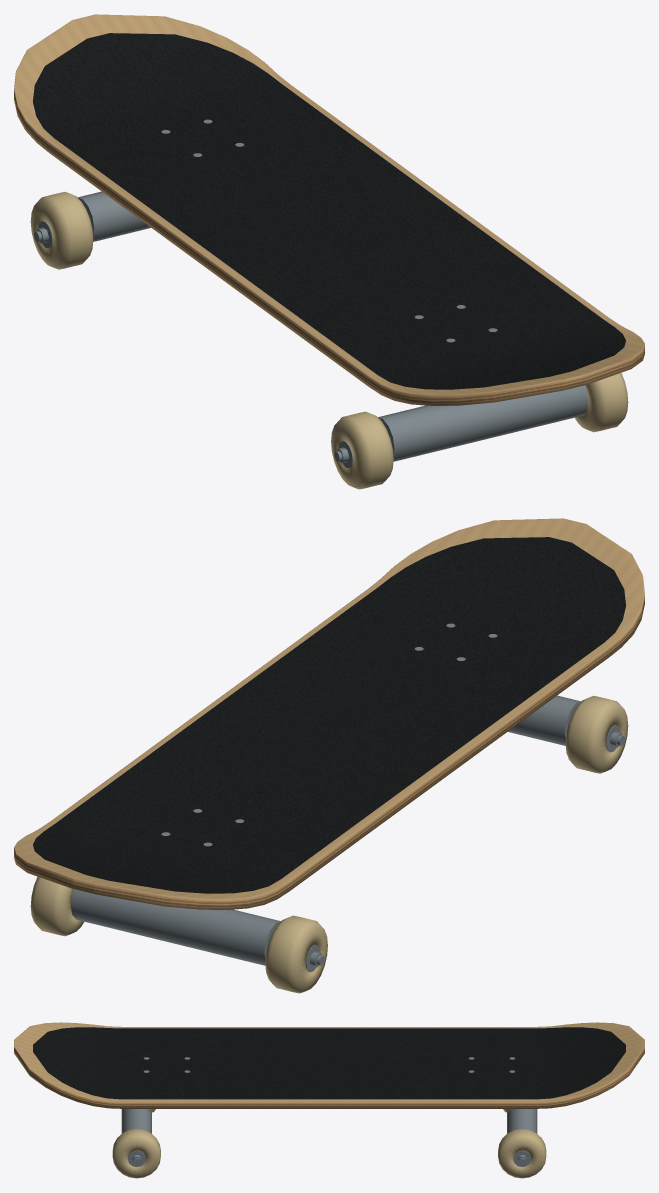
The model's file is tam_skateboard.glb.
3 views of the same model, one above another, from view 1: azimuth 30°, elevation 25°; view 2: azimuth 150°, elevation 25°; view 3: azimuth 270°, elevation 25° (orthographic). The views are drawn at different scales.
Parts seen in each view (by area): view 1: TamSkateboard; view 2: TamSkateboard; view 3: TamSkateboard.
Part boxes in pixels (box(x1,y1,x2,y2)): TamSkateboard: box(14, 14, 644, 489); TamSkateboard: box(14, 518, 644, 993); TamSkateboard: box(14, 1022, 644, 1178).
Bounding box in the file's own units: 0.28 × 0.1397 × 0.835.
4 materials, 4 textured.
